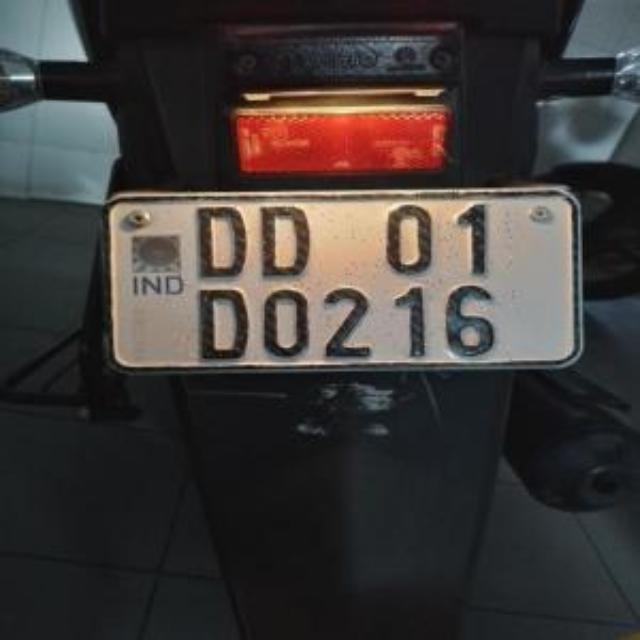License Plate: (164, 189, 519, 366)
